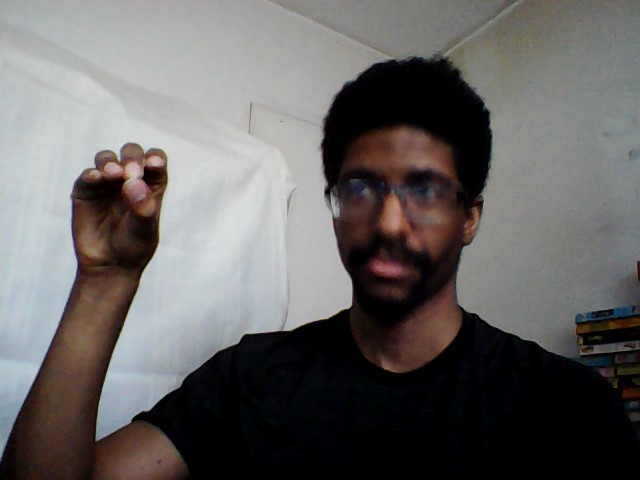o: (65, 138, 173, 276)
